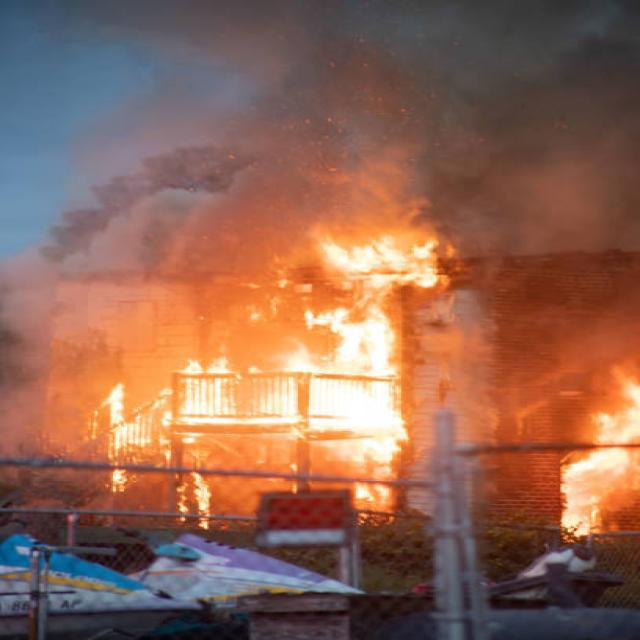Fire: (107, 234, 534, 506), (549, 380, 640, 530)
Smoke: (330, 0, 640, 503), (0, 8, 300, 492)
